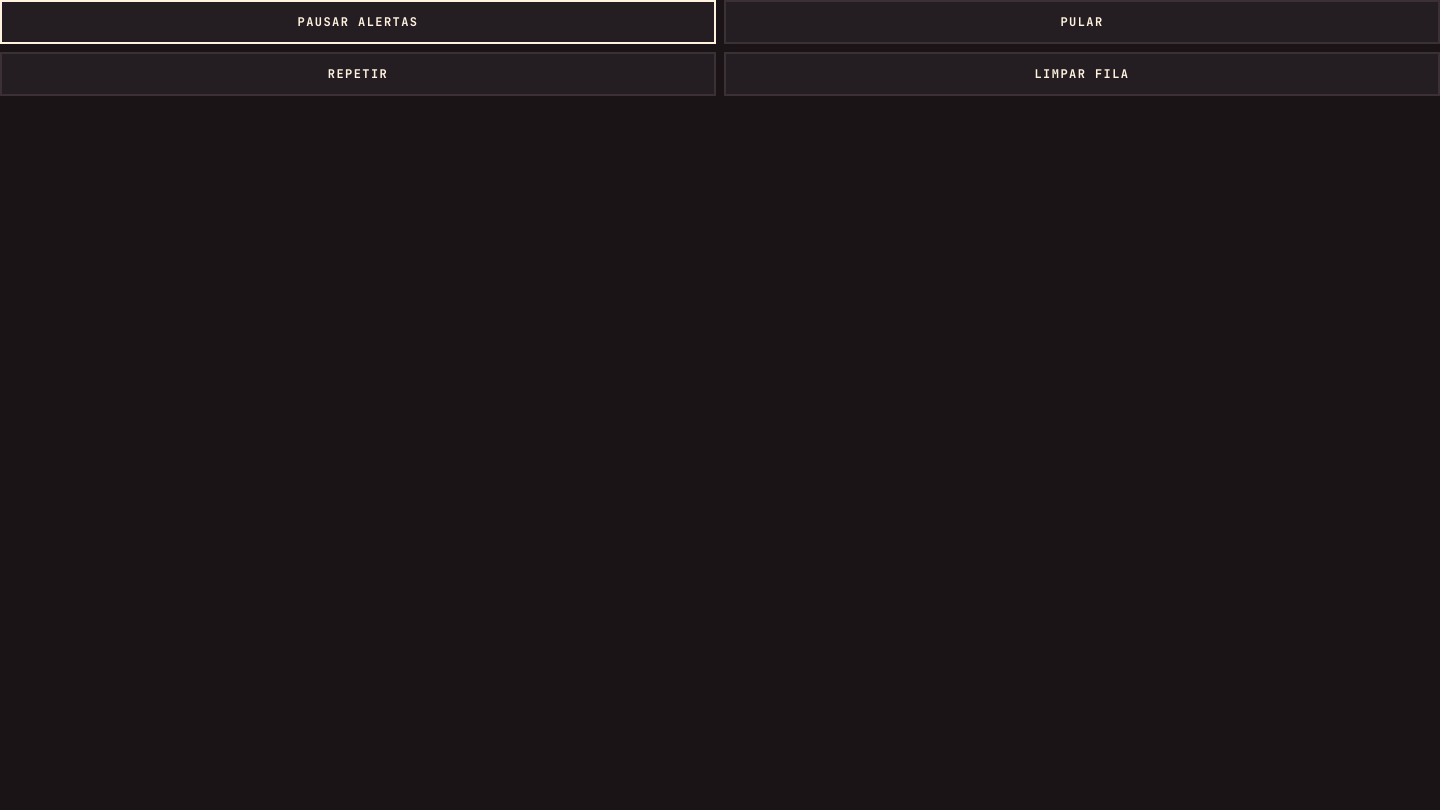
Test: ControlesLivePix › LIMPAR FILA pergunta "Limpar fila?" antes; cancelar não limpa
Click the button "LIMPAR FILA".
click(1082, 74)  # box [724,52,1439,96]
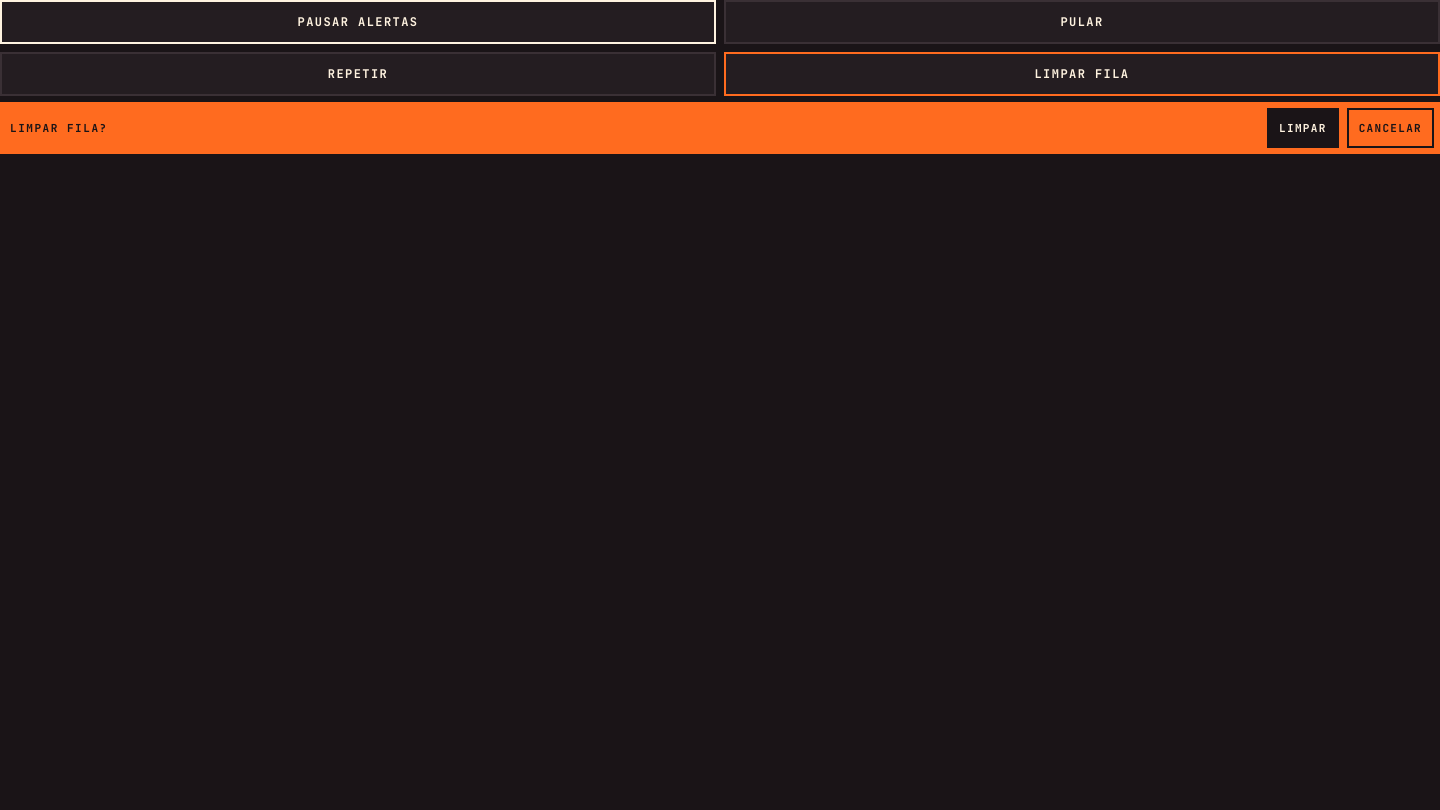
Check: the dialog "LIMPAR FILA?" is shown, box [10,120,108,134]
Click the button "CANCELAR".
click(1390, 128)  # box [1347,108,1434,148]
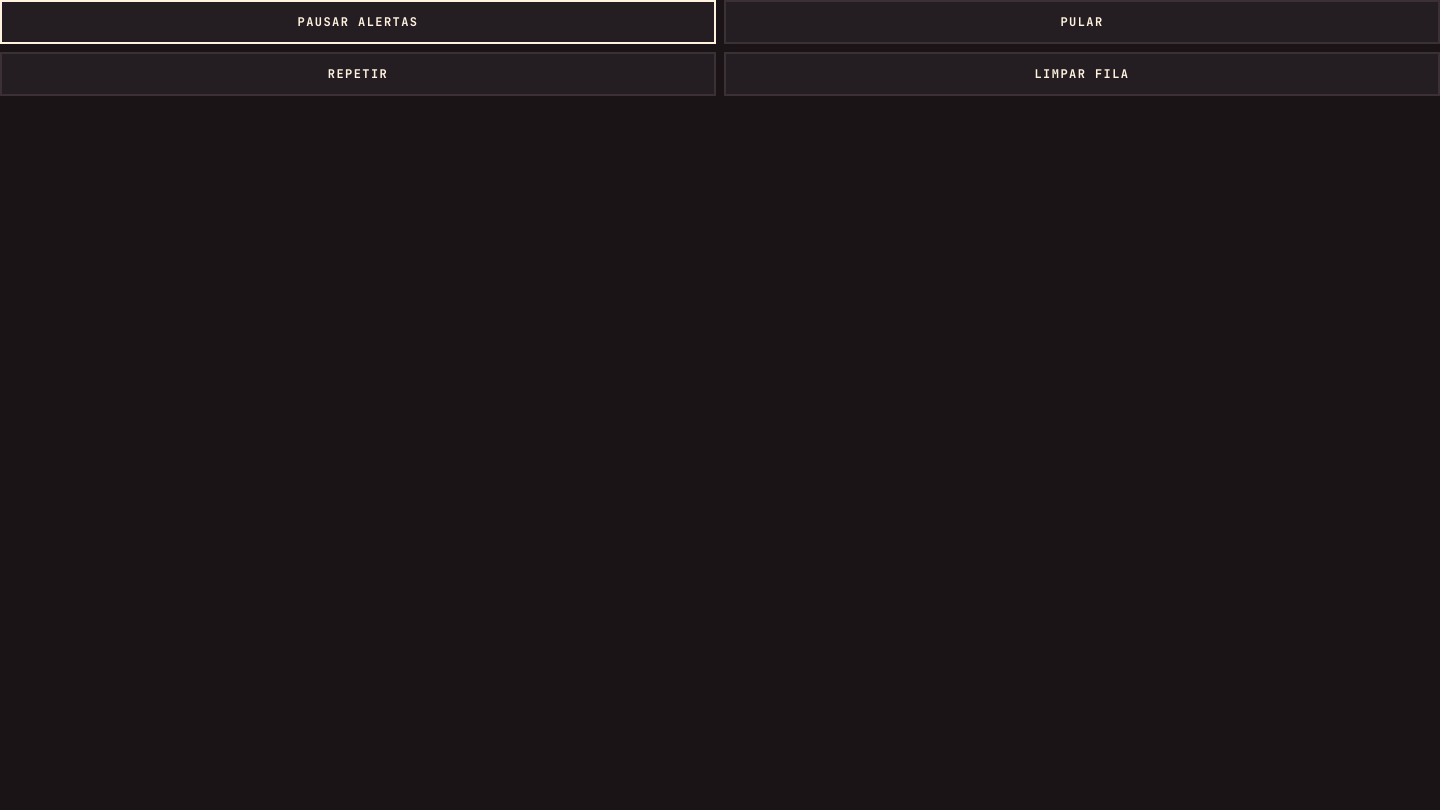
Check: the dialog is gone
